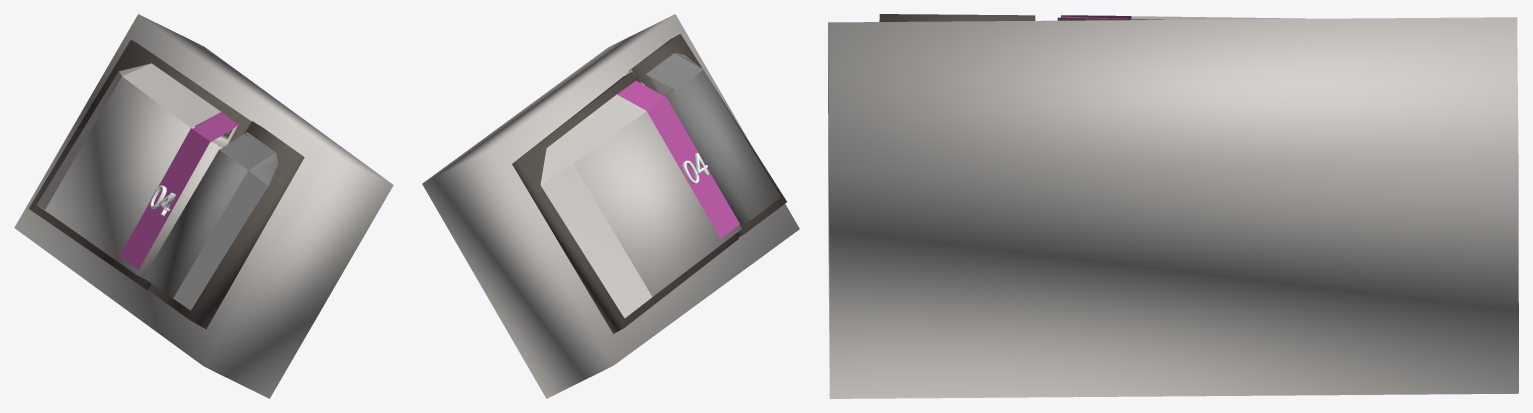
File: Keycard Padlock L4 without indicator lights.fbx
3 views of the same model, side by side, from view 1: azimuth 30°, elevation 25°; view 2: azimuth 150°, elevation 25°; view 3: azimuth 270°, elevation 25° (orthographic). The views are drawn at different scales.
Visible parts, largest first — view 1: a0a1c971-78b5-4adb-be90-4a6b783af151; view 2: a0a1c971-78b5-4adb-be90-4a6b783af151; view 3: a0a1c971-78b5-4adb-be90-4a6b783af151.
Boxes of the visible parts, bbox=[...] form: a0a1c971-78b5-4adb-be90-4a6b783af151: bbox=[14, 14, 393, 398]; a0a1c971-78b5-4adb-be90-4a6b783af151: bbox=[422, 14, 799, 398]; a0a1c971-78b5-4adb-be90-4a6b783af151: bbox=[828, 14, 1518, 398].
Bounding box in the file's own units: 2286 × 2603 × 3777.
